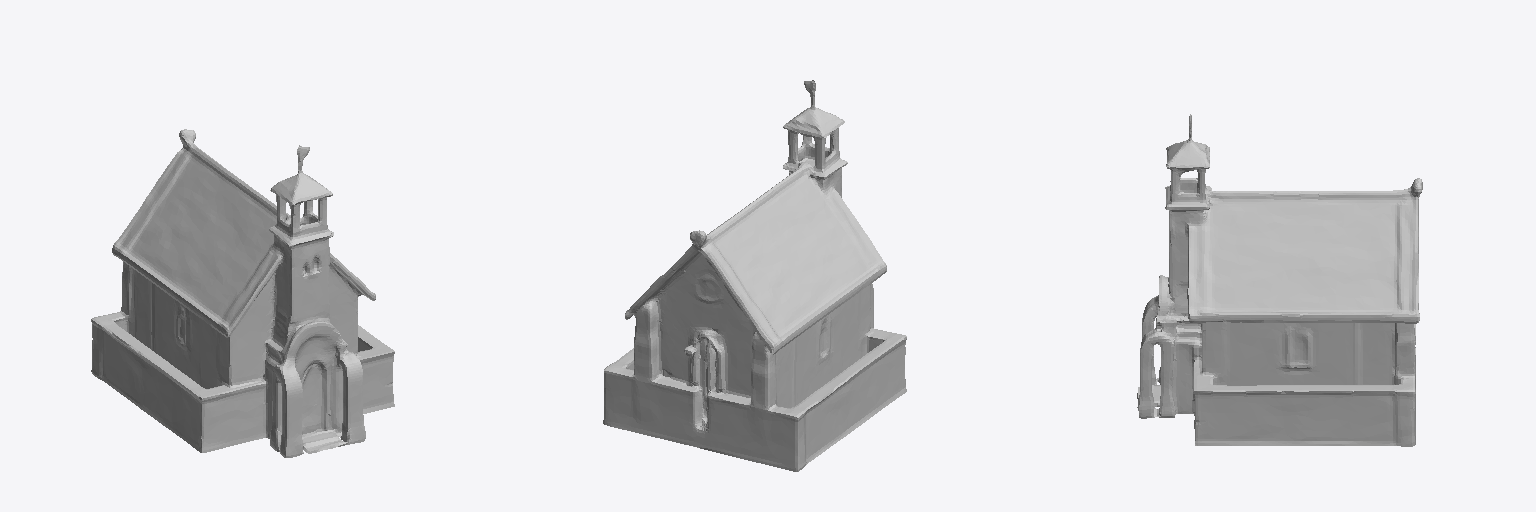
The model's file is a_small_midevil_irish_0919133252_preview.obj.
The picture shows the model from 3 angles: view 1: azimuth 30°, elevation 25°; view 2: azimuth 150°, elevation 25°; view 3: azimuth 270°, elevation 25°; orthographic projection.
Parts seen in each view (by area): view 1: Mesh1; view 2: Mesh1; view 3: Mesh1.
Boxes of the visible parts, box(x1,y1,x2,y2) form: Mesh1: box(91, 129, 394, 457); Mesh1: box(603, 80, 906, 471); Mesh1: box(1137, 114, 1422, 446).
Size of the model in its own units: 1.42 by 2 by 1.79.